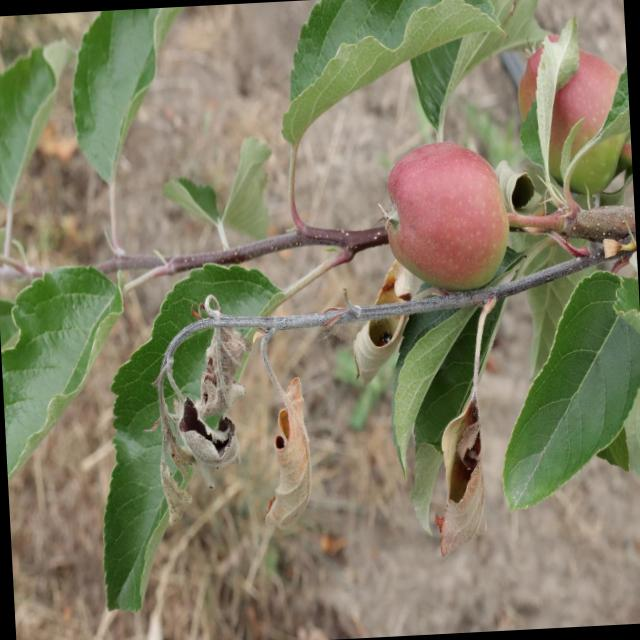-FireBlight-: (148, 291, 249, 517), (427, 392, 500, 566), (258, 358, 326, 542), (352, 262, 421, 396)
